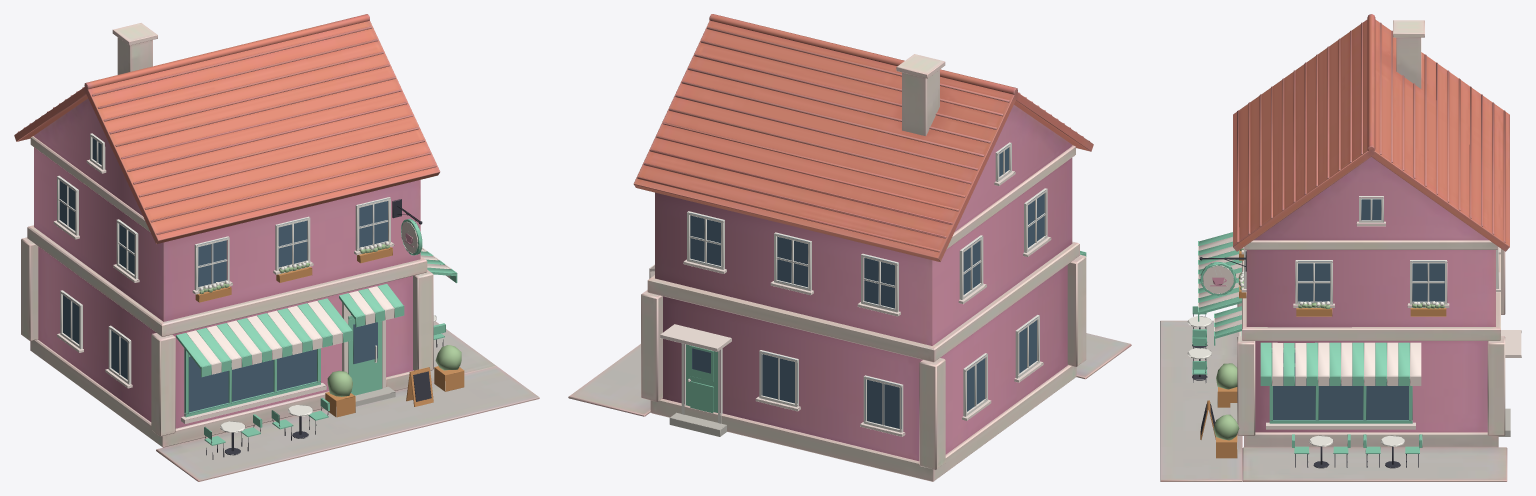
File: cafe.glb
The picture shows the model from 3 angles, left to right: view 1: azimuth 30°, elevation 25°; view 2: azimuth 150°, elevation 25°; view 3: azimuth 270°, elevation 25°; orthographic projection. The views are drawn at different scales.
Parts seen in each view (by area): view 1: cafe_body, cafe_details; view 2: cafe_body, cafe_details; view 3: cafe_body, cafe_details.
Boxes of the visible parts, x1=… form: cafe_body: x1=14, y1=14, x2=539, y2=481; cafe_details: x1=53, y1=133, x2=464, y2=459; cafe_body: x1=568, y1=14, x2=1131, y2=481; cafe_details: x1=649, y1=142, x2=1086, y2=436; cafe_body: x1=1160, y1=14, x2=1509, y2=481; cafe_details: x1=1187, y1=196, x2=1521, y2=468.
Size of the model in its own units: 10.68 by 10.05 by 10.1.
2 materials, 2 textured.
